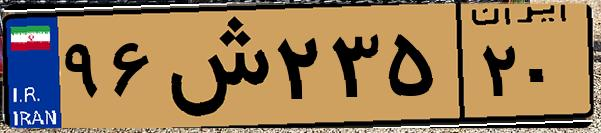0: (525, 38, 570, 115)
2: (270, 28, 330, 110), (475, 38, 525, 113)
3: (330, 28, 385, 110)
5: (385, 28, 445, 110)
6: (110, 28, 158, 98)
9: (57, 26, 110, 100)
ش: (158, 12, 270, 120)
